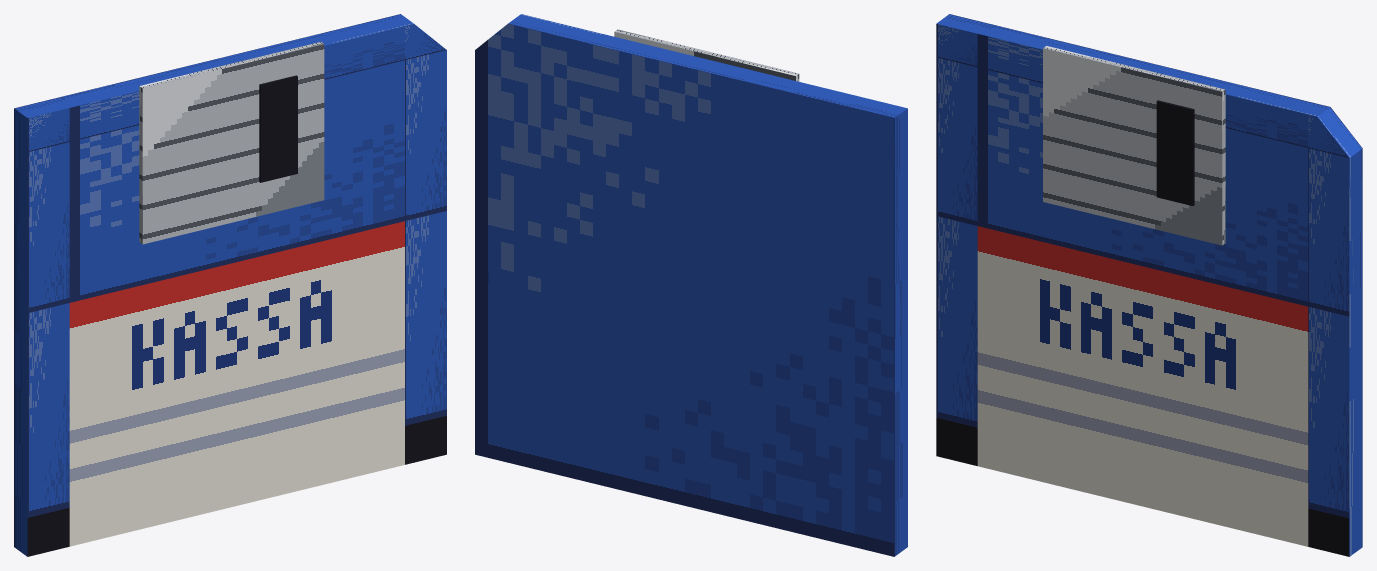
The model's file is moreB-floppyDisk.glb.
3 renders of one model, left to right at view 1: azimuth 30°, elevation 25°; view 2: azimuth 150°, elevation 25°; view 3: azimuth 330°, elevation 25°, orthographic.
Parts seen in each view (by area): view 1: moreB.floppyDisk; view 2: moreB.floppyDisk; view 3: moreB.floppyDisk.
Boxes of the visible parts, x1,y1,x2,y2 form: moreB.floppyDisk: [14, 14, 446, 556]; moreB.floppyDisk: [475, 14, 907, 556]; moreB.floppyDisk: [936, 14, 1362, 556].
Bounding box in the file's own units: 1.4 × 1.42 × 0.1053.
5 materials, 3 textured.
